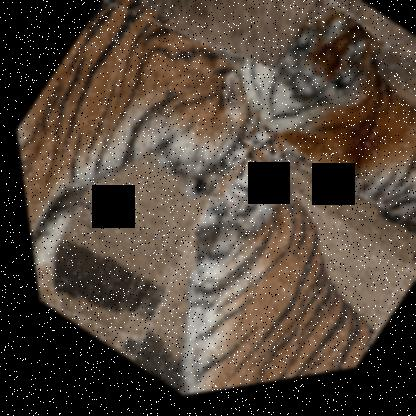Panthera tigris: (0, 0, 325, 374), (80, 111, 415, 407), (203, 0, 415, 309)
